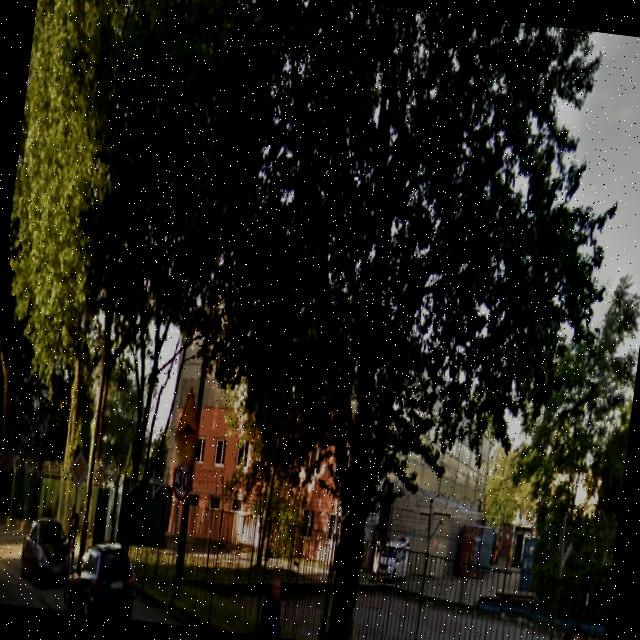Droga z pierwszenstwem: (69, 448, 88, 488)
